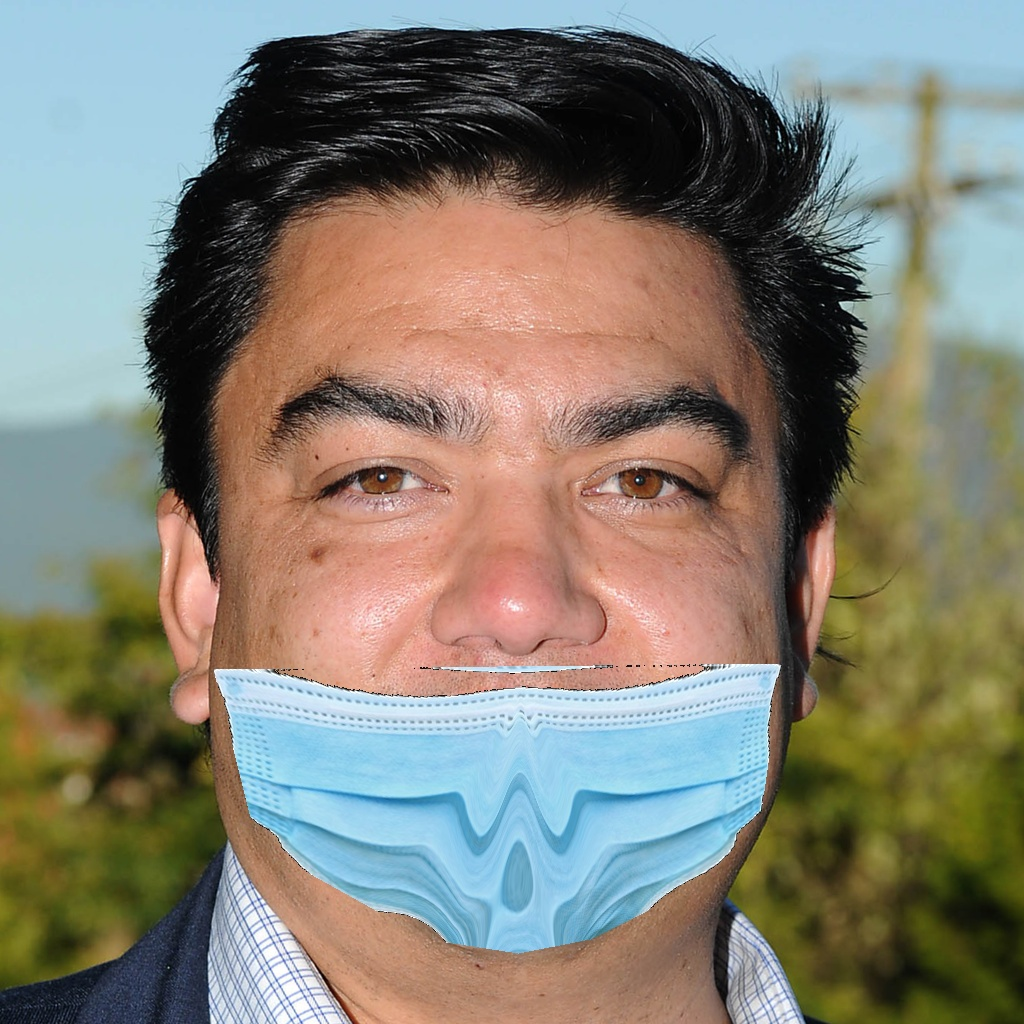mascarilla_mal_puesta: (133, 330, 831, 968)
